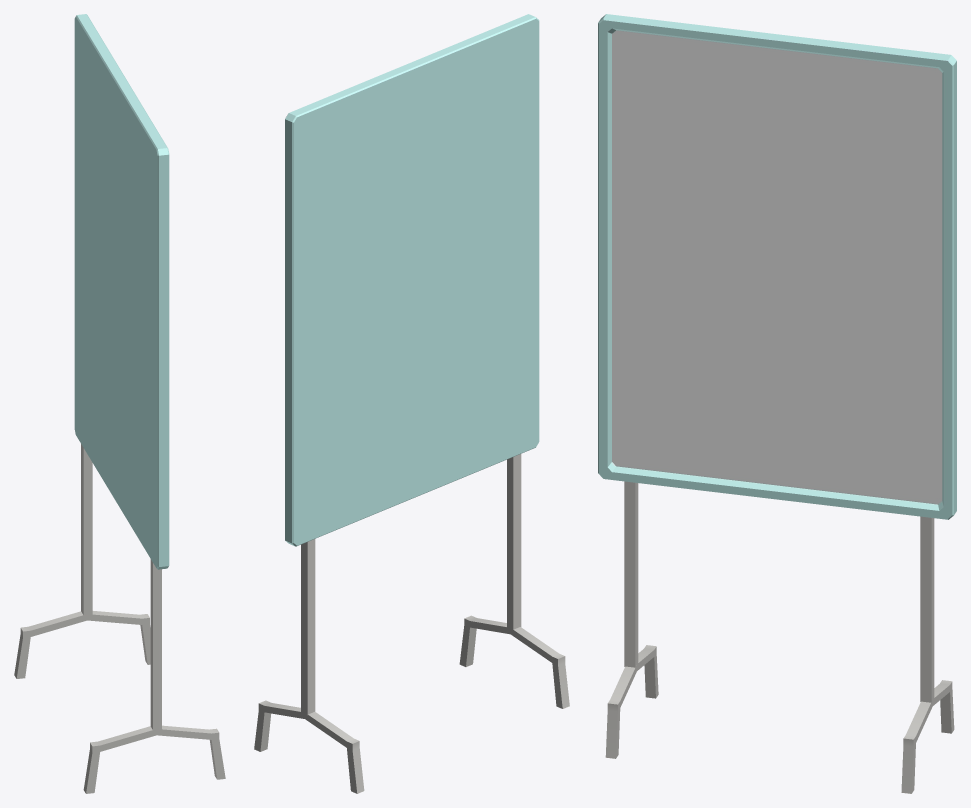
The model's file is bangviet.fbx.
3 renders of one model, left to right at view 1: azimuth 30°, elevation 25°; view 2: azimuth 150°, elevation 25°; view 3: azimuth 270°, elevation 25°, orthographic. The views are drawn at different scales.
Parts seen in each view (by area): view 1: bangviet; view 2: bangviet; view 3: bangviet.
Boxes of the visible parts, <box> form: bangviet: <box>14,14,225,793</box>; bangviet: <box>254,14,569,793</box>; bangviet: <box>598,14,956,793</box>.
Size of the model in its own units: 24.8 by 81.41 by 37.41.
Materials: 1 (1 with a texture image).
